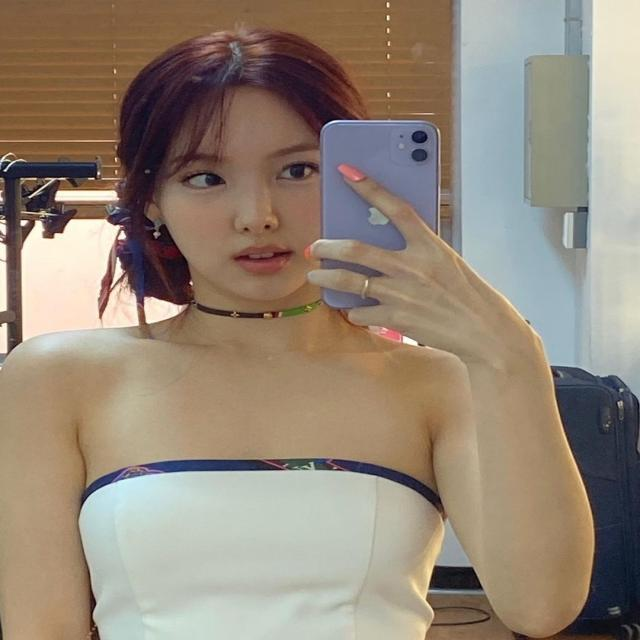phone: (321, 120, 442, 308)
